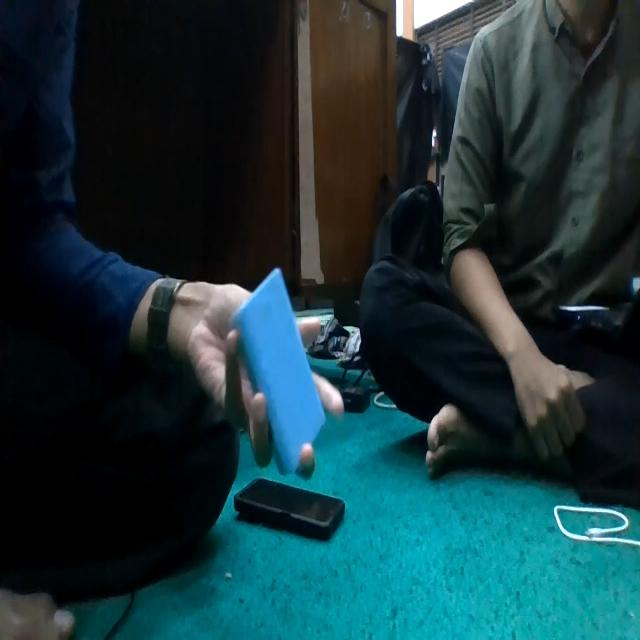Powerbank: (232, 268, 325, 475)
